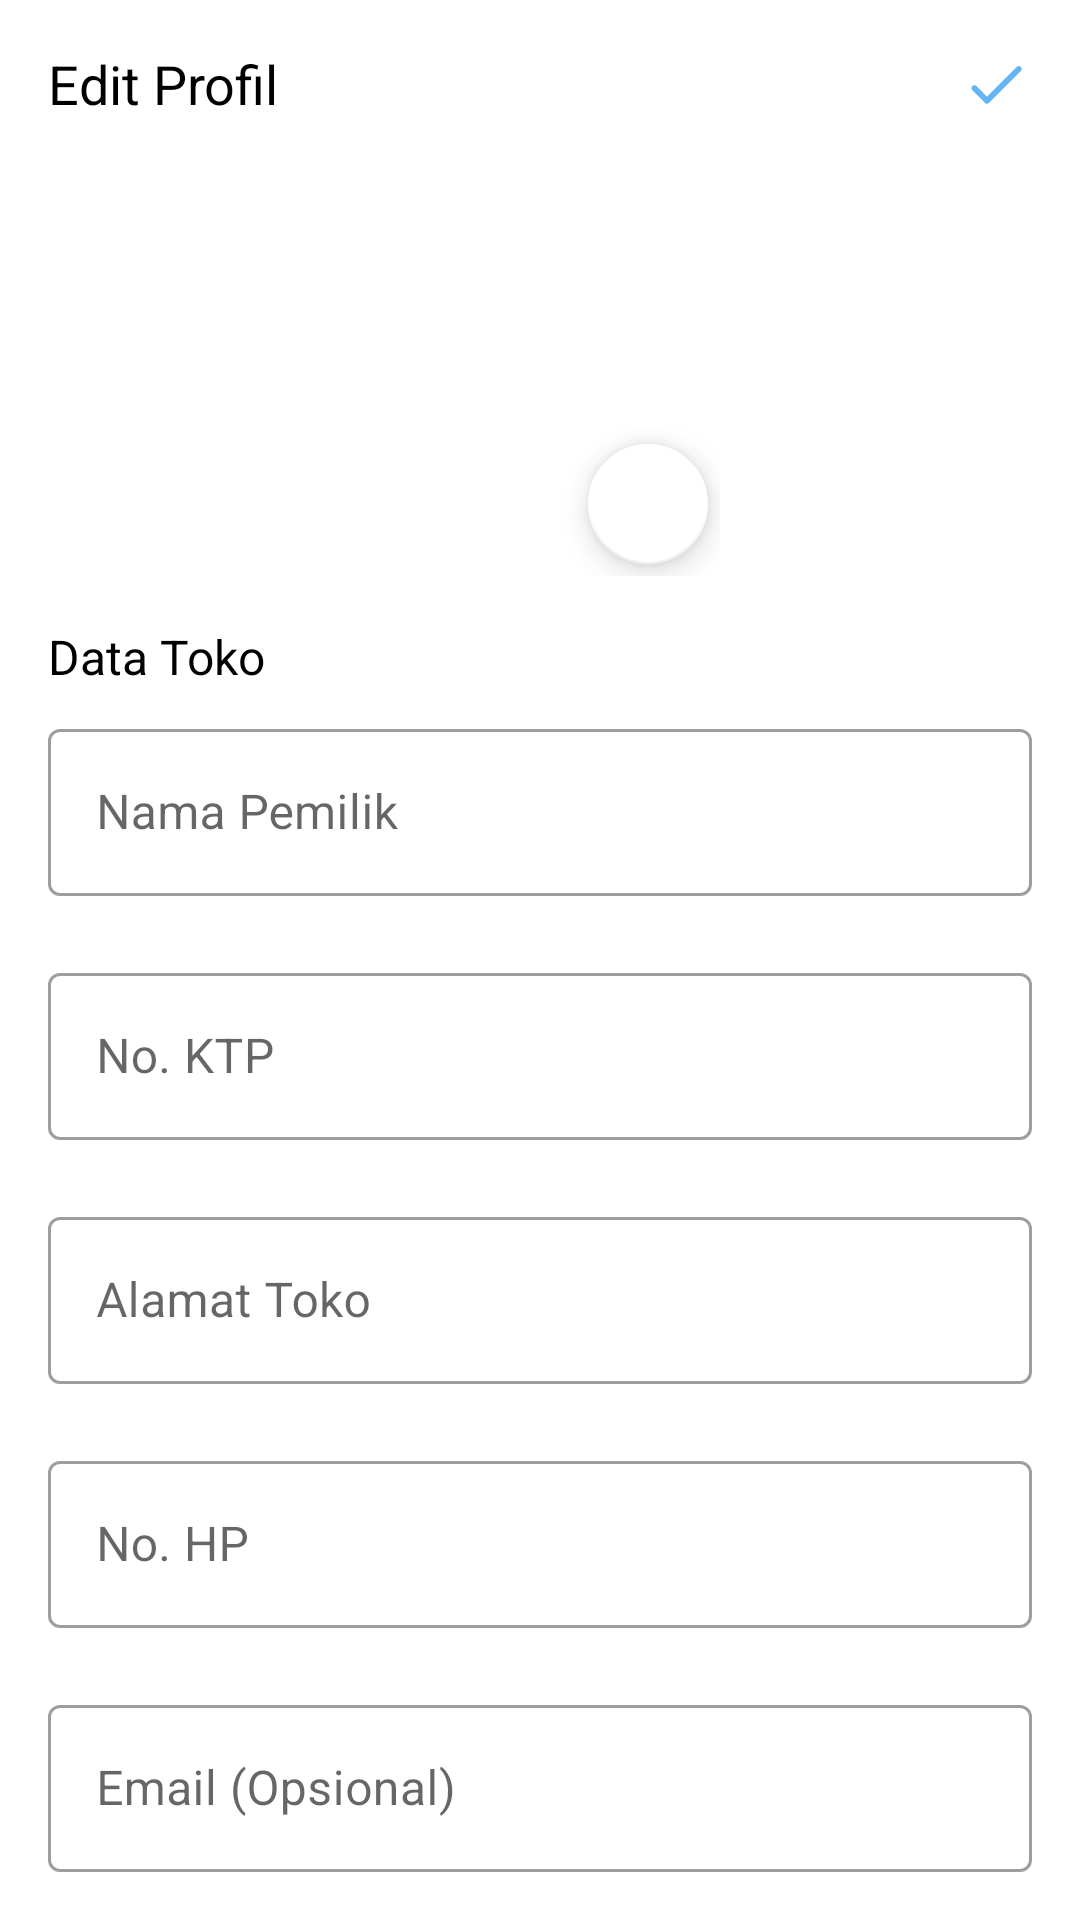

Icon click points for this 1080*1920 phone screenshot, format (x,y):
check: (996,85)
